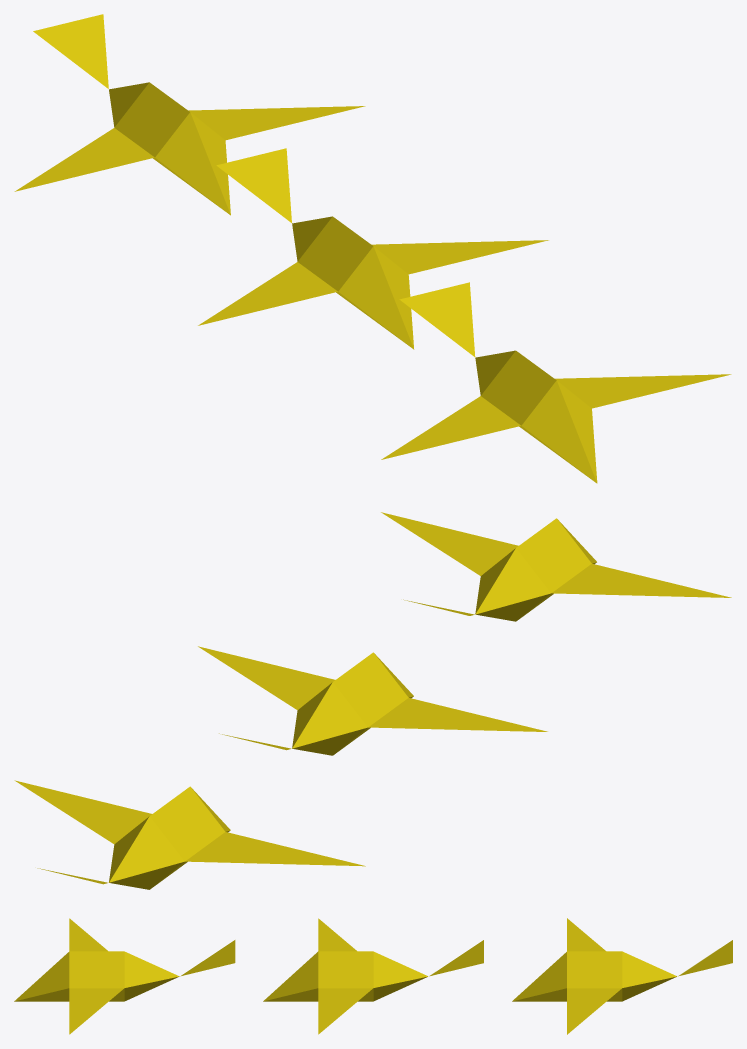
Rendered from model_3070_spotanim.obj.
3 views of the same model, one above another, from view 1: azimuth 30°, elevation 25°; view 2: azimuth 150°, elevation 25°; view 3: azimuth 270°, elevation 25° (orthographic). The views are drawn at different scales.
Parts seen in each view (by area): view 1: 3070; view 2: 3070; view 3: 3070.
Boxes of the visible parts, x1,y1,x2,y2 form: 3070: (14,14,731,483); 3070: (14,512,731,889); 3070: (14,918,732,1034).
Size of the model in its own units: 40 by 8 by 104.
